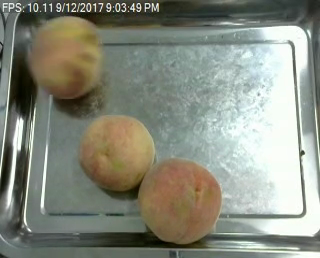Peach: (139, 156, 224, 244), (26, 14, 102, 98), (79, 116, 156, 193)
